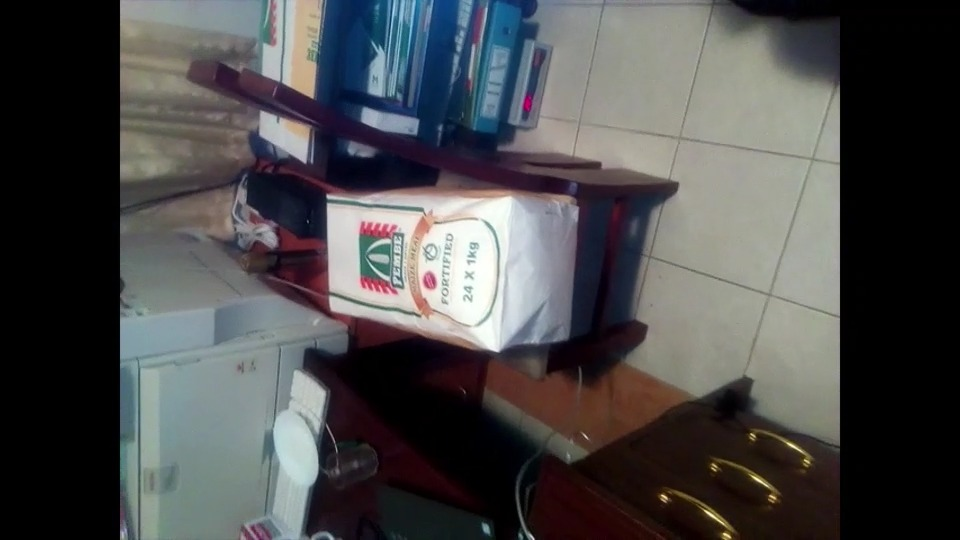maize_flour_green_label: (326, 189, 574, 348)
